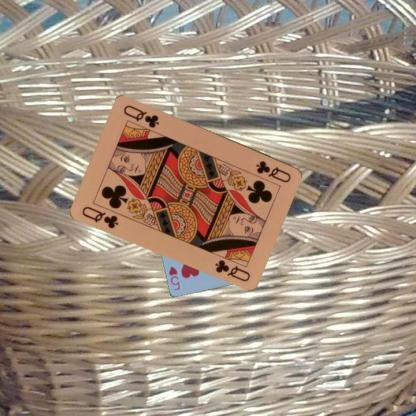Qc: (80, 203, 121, 230), (254, 158, 292, 184)
